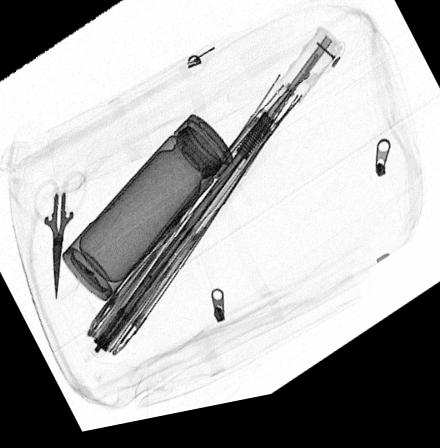Scissors: (27, 173, 88, 302)
